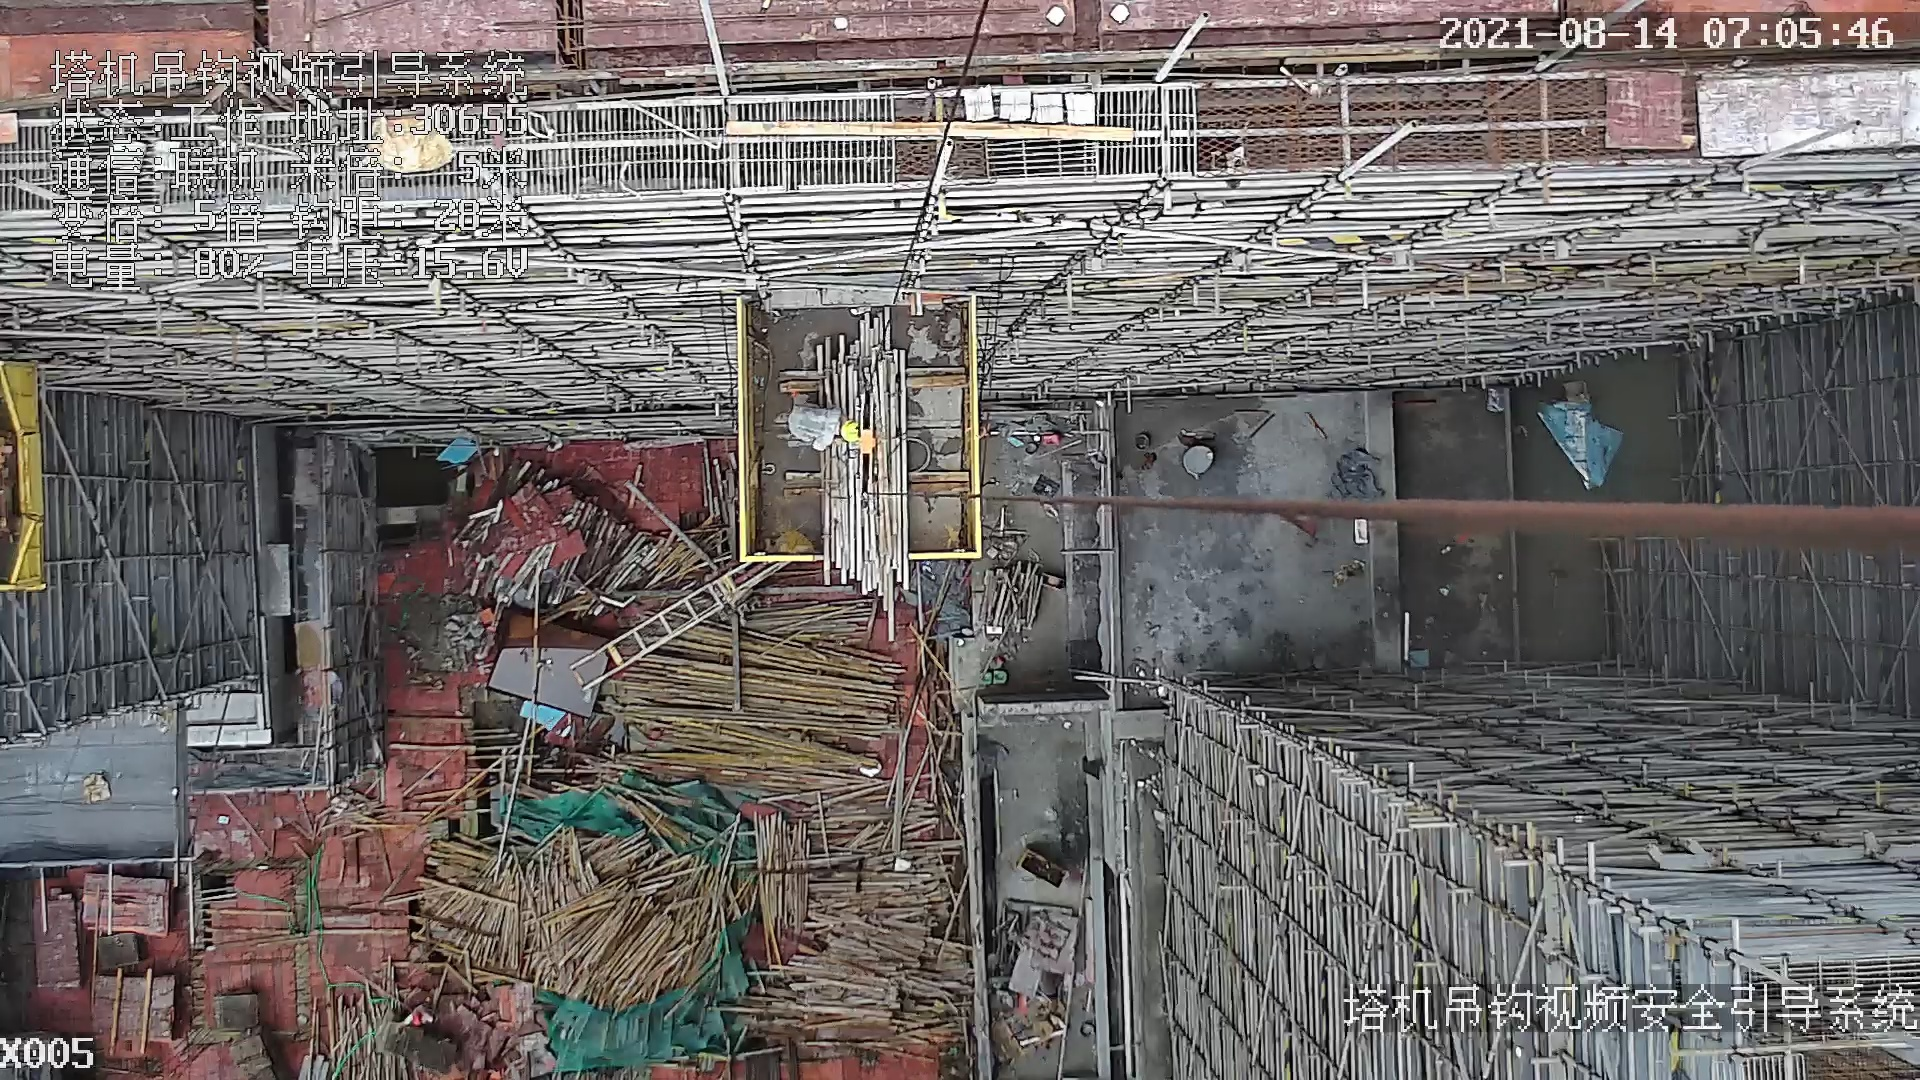helmet: (838, 417, 863, 446)
hook: (841, 390, 883, 509)
person: (790, 395, 864, 453)
